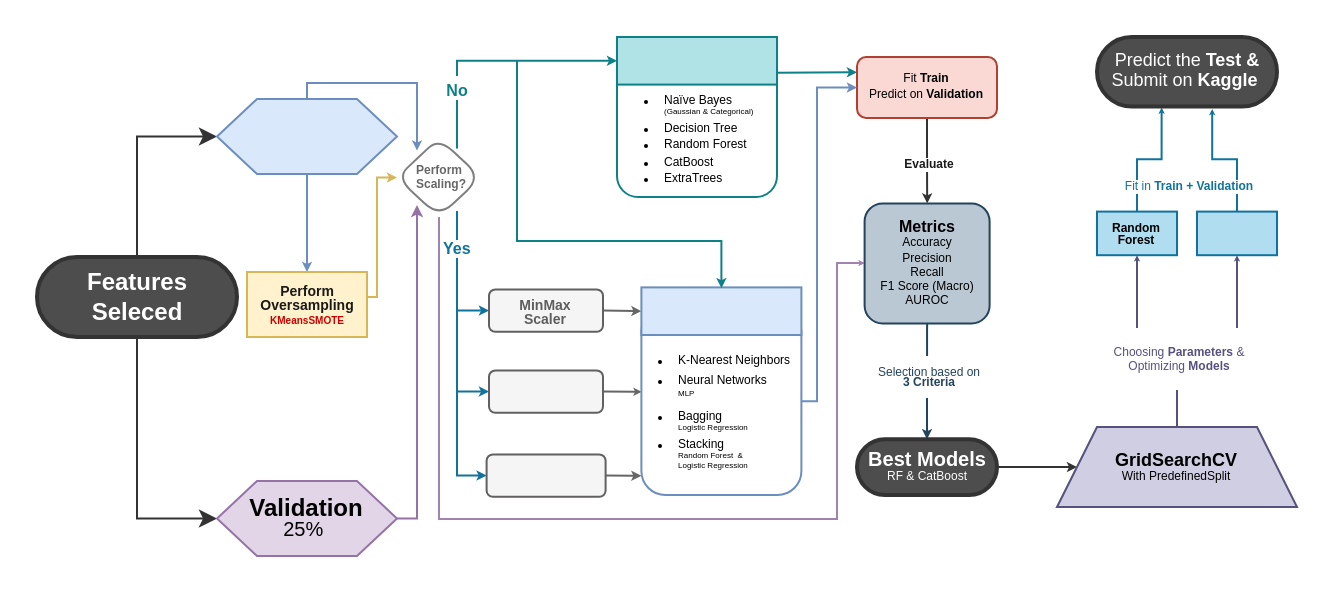
Some shapes in this 1332 by 596 pixel diagram are drawn without their labels. Here are the shapes that lost their labels. From the top down, the box of each, then its label:
(615, 35, 777, 85): Classification Models (w/o Scaling)
(215, 97, 397, 174): Train 75%
(1195, 210, 1277, 255): CatBoost
(639, 285, 801, 335): Classification Models (w/ Scaling)
(487, 368, 603, 413): Standard Scaler
(485, 452, 606, 497): Robust Scaler
